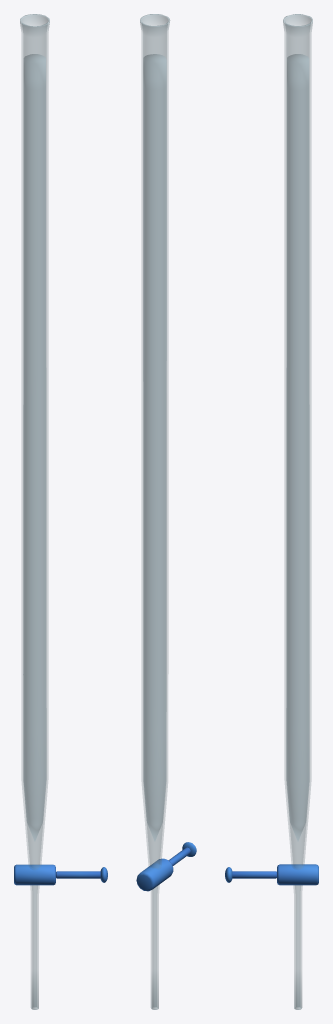
Rendered from burette.glb.
3 renders of one model, left to right at view 1: azimuth 90°, elevation 25°; view 2: azimuth 150°, elevation 25°; view 3: azimuth 270°, elevation 25°, orthographic.
Visible parts, largest first — view 1: burette-glass, burette-inner, burette-stopcock; view 2: burette-glass, burette-inner, burette-stopcock; view 3: burette-glass, burette-inner, burette-stopcock.
Part boxes in pixels (<box>): burette-glass: <box>20,14,49,1009</box>; burette-inner: <box>23,54,45,840</box>; burette-stopcock: <box>14,864,107,885</box>; burette-glass: <box>140,14,170,1009</box>; burette-inner: <box>143,54,166,840</box>; burette-stopcock: <box>136,842,196,891</box>; burette-glass: <box>283,14,312,1009</box>; burette-inner: <box>287,54,309,840</box>; burette-stopcock: <box>225,864,318,885</box>.
Size of what is drawn, in the model's own units: 1.44 by 52.07 by 4.49.
